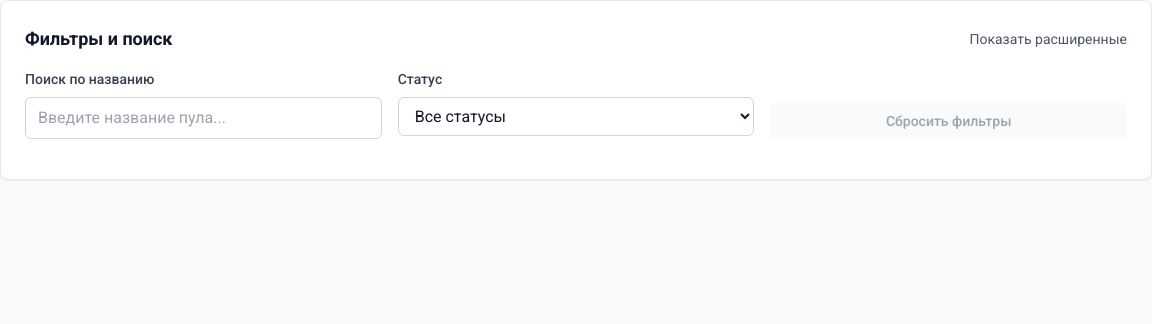
Test: MiningPoolsFilter › показывает и скрывает расширенные фильтры
Expected: the text "Расширенные фильтры" is not shown
# Клик по кнопке показать расширенные фильтры
Click the button "Показать расширенные" at (1048, 39), box [970,29,1127,49]
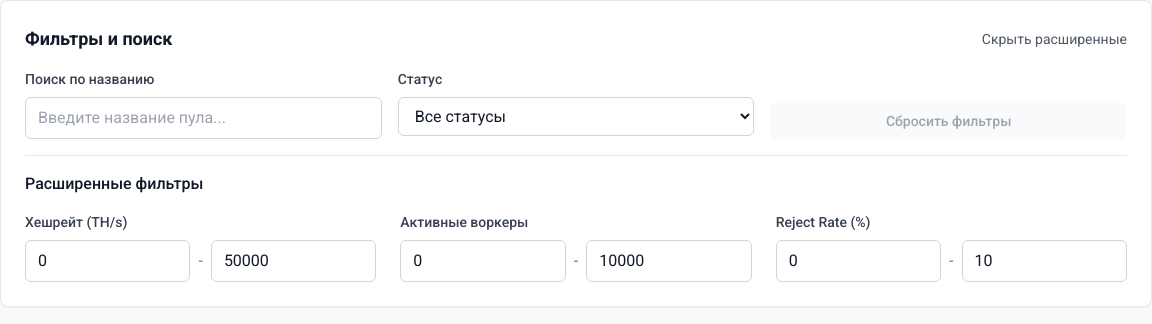
Expected: the heading "Расширенные фильтры" is shown, [25,174,203,193]
Expected: the text "Хешрейт (TH/s)" is shown, [25,214,127,230]
Expected: the text "Активные воркеры" is shown, [400,214,528,230]
# Клик по кнопке скрыть расширенные фильтры
Click the button "Скрыть расширенные" at (1054, 39), box [982,29,1127,49]
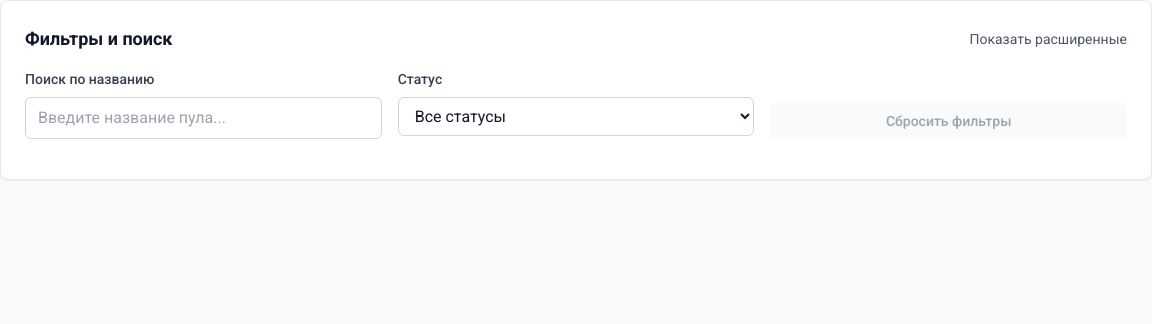
Expected: the heading "Расширенные фильтры" is gone
